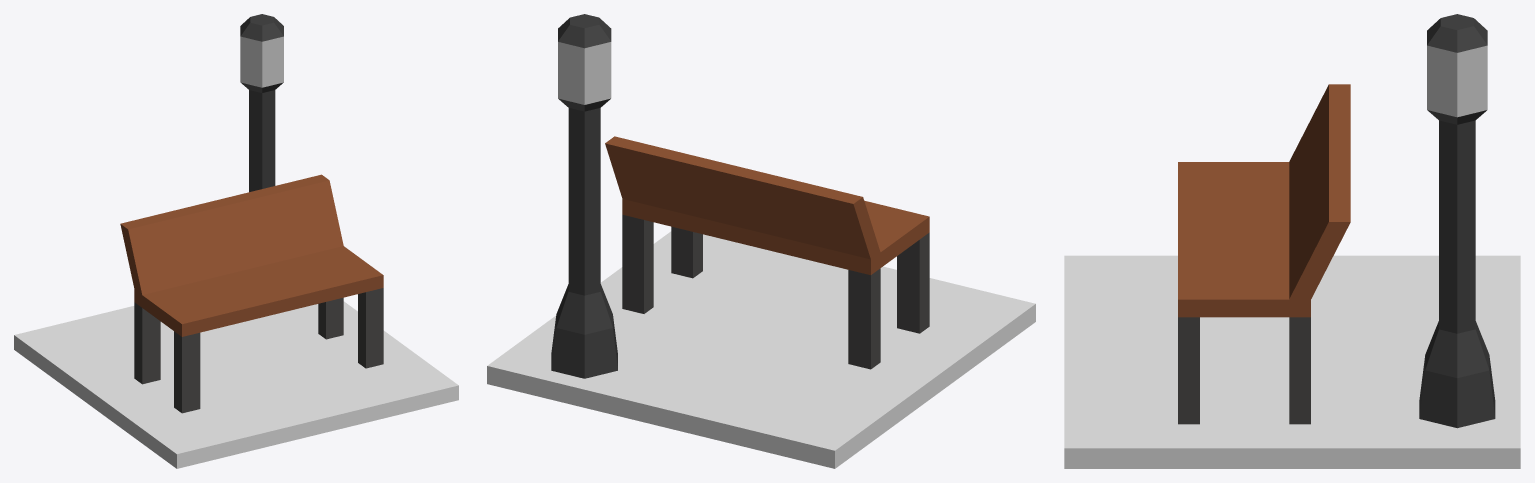
Rendered from lamp1_1.FBX.
3 renders of one model, left to right at view 1: azimuth 30°, elevation 25°; view 2: azimuth 150°, elevation 25°; view 3: azimuth 270°, elevation 25°, orthographic. The views are drawn at different scales.
Parts seen in each view (by area): view 1: Cylinder001, Box002; view 2: Box002, Cylinder001; view 3: Box002, Cylinder001.
Part boxes in pixels (x1=…): Cylinder001: x1=120, y1=14, x2=383, y2=413; Box002: x1=14, y1=301, x2=458, y2=468; Box002: x1=487, y1=231, x2=1035, y2=468; Cylinder001: x1=551, y1=14, x2=929, y2=378; Box002: x1=1064, y1=255, x2=1520, y2=468; Cylinder001: x1=1178, y1=14, x2=1495, y2=428.
Size of the model in its own units: 1 by 0.9878 by 1.
4 materials, 4 textured.
